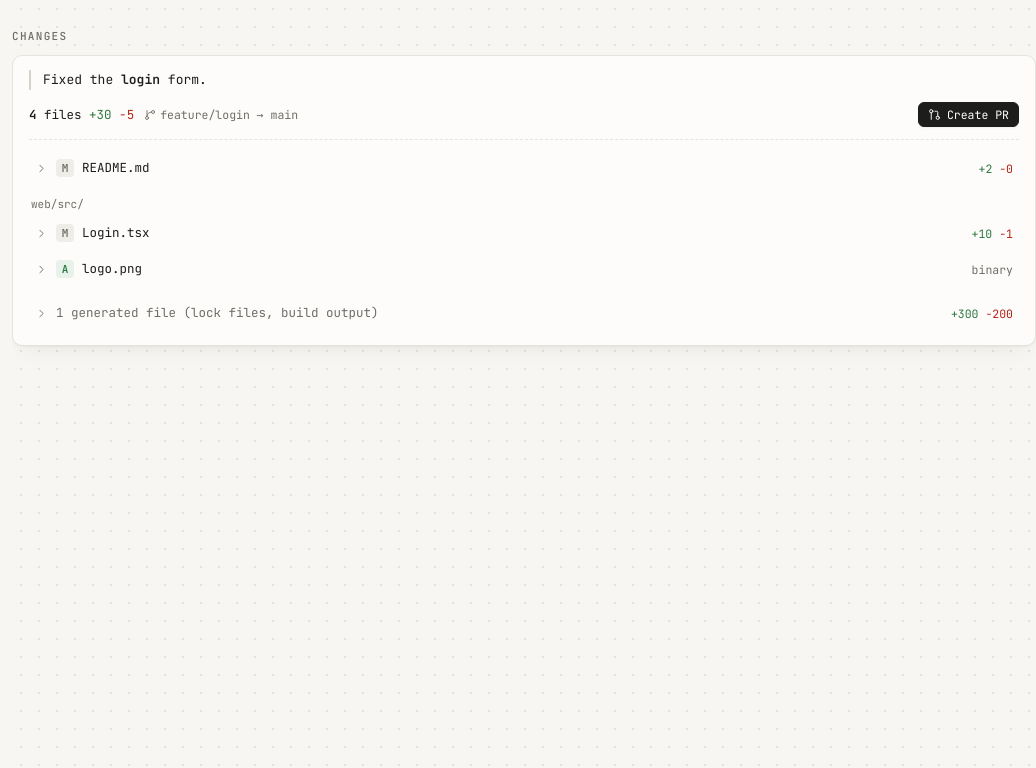
Scenario: Changes › says a binary file has no diff without asking for one
Step 1. Click the button "A logo.png binary" → click(112, 269), box [29,252,1019,288]
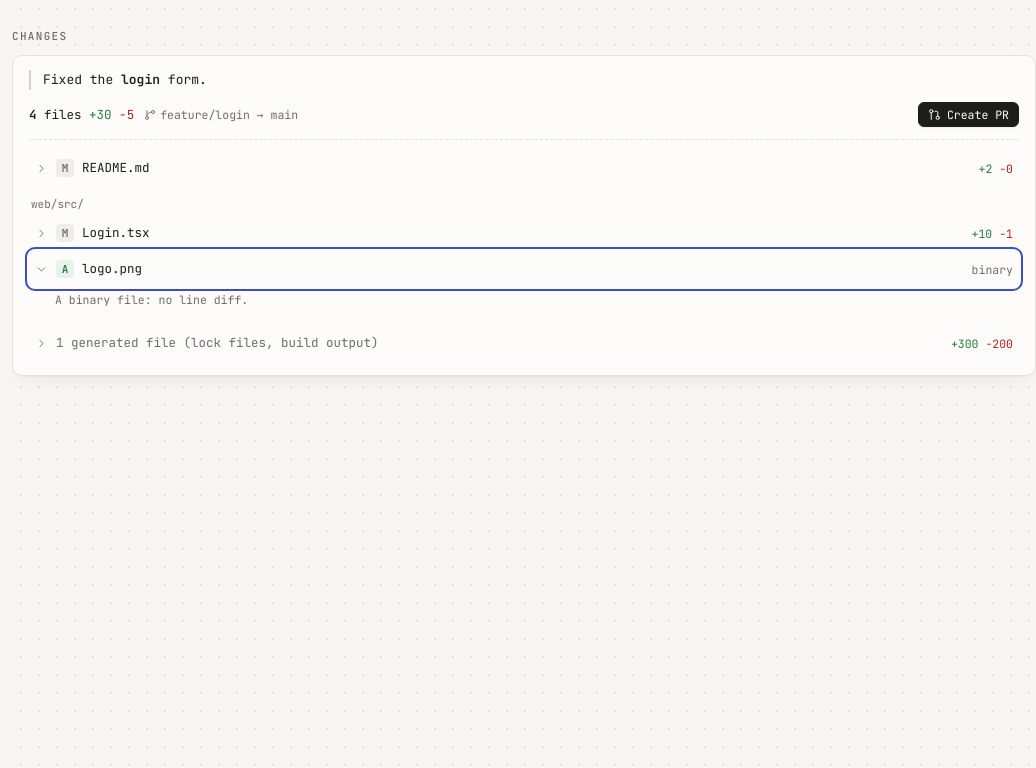
Result: the text "A binary file: no line diff." is shown at [55,292,248,308]
